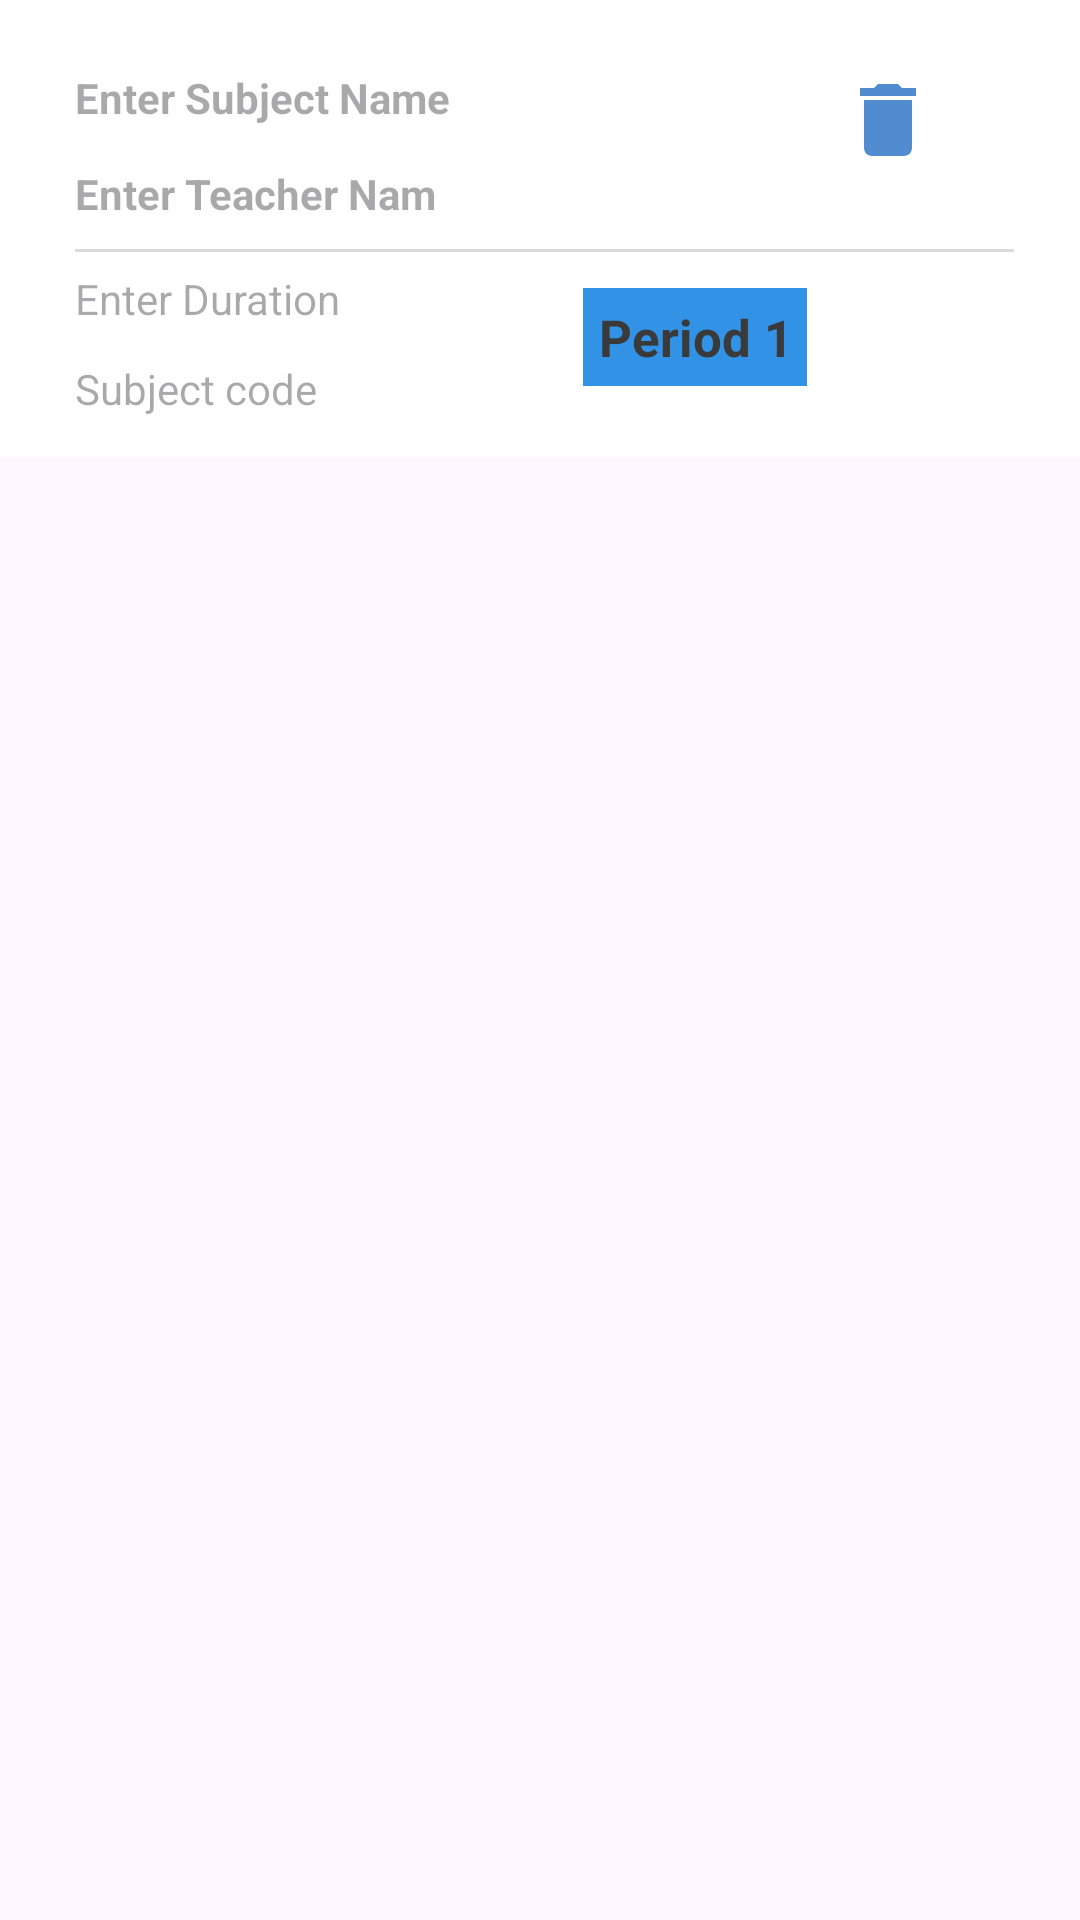

Locate icon controls on the screen. Image size 1080 × 1920, boxes as {"x1": x1, "y1": y1, "x2": x2, "y2": y2}.
delete: {"x1": 860, "y1": 84, "x2": 916, "y2": 156}
